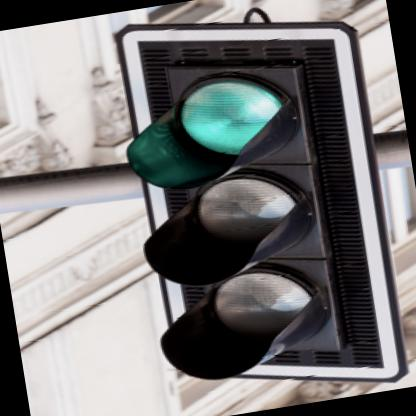trafficlight: (113, 0, 415, 416)
